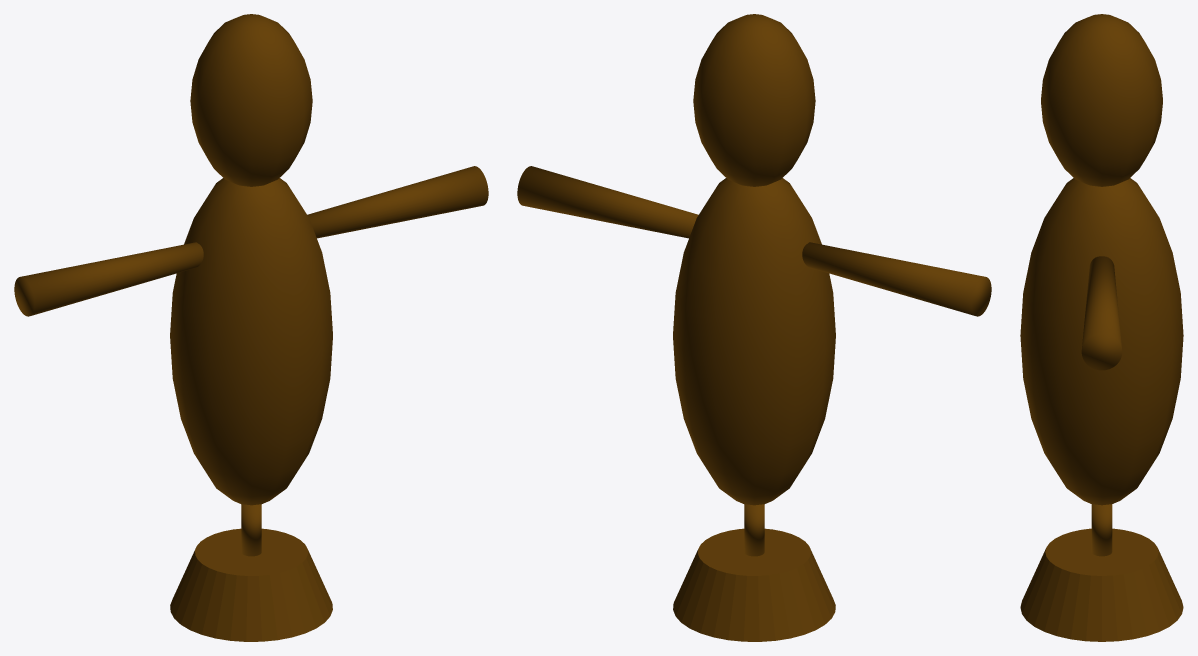
Rendered from Dummy.fbx.
The picture shows the model from 3 angles, left to right: view 1: azimuth 30°, elevation 25°; view 2: azimuth 150°, elevation 25°; view 3: azimuth 270°, elevation 25°; orthographic projection.
Parts seen in each view (by area): view 1: Sphere.001, Sphere, Cylinder.001, Cylinder.003, Cylinder.002, Cylinder; view 2: Sphere.001, Sphere, Cylinder.001, Cylinder.003, Cylinder.002, Cylinder; view 3: Sphere.001, Sphere, Cylinder.001, Cylinder.002, Cylinder.
Part boxes in pixels (x1,y1,x2,y2): Sphere.001: (170,178,332,505); Sphere: (190,14,312,186); Cylinder.001: (170,528,332,641); Cylinder.003: (14,242,203,316); Cylinder.002: (307,166,488,238); Cylinder: (241,504,261,556); Sphere.001: (673,178,835,505); Sphere: (693,14,815,186); Cylinder.001: (673,528,835,641); Cylinder.003: (802,242,991,316); Cylinder.002: (517,166,698,238); Cylinder: (744,504,764,556); Sphere.001: (1020,178,1183,505); Sphere: (1041,14,1162,186); Cylinder.001: (1020,528,1183,641); Cylinder.002: (1081,256,1122,370); Cylinder: (1091,504,1112,556).
Bounding box in the file's own units: 128 × 160 × 40.
